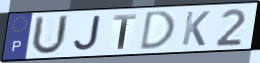2: (215, 7, 248, 48)
D: (138, 9, 177, 52)
J: (72, 14, 102, 53)
K: (180, 10, 212, 47)
T: (112, 13, 138, 50)
U: (29, 14, 71, 57)
